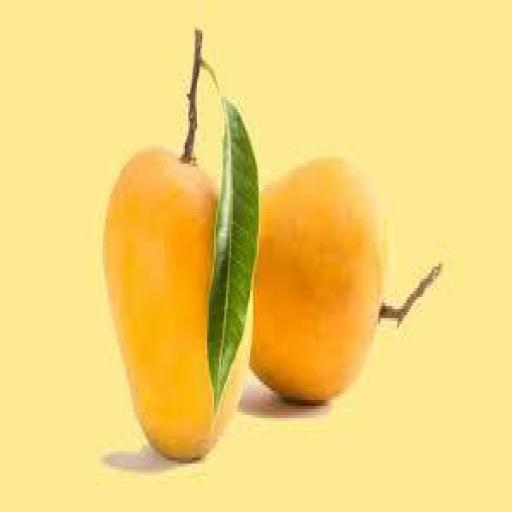mango: (105, 149, 253, 463), (252, 152, 392, 405)
